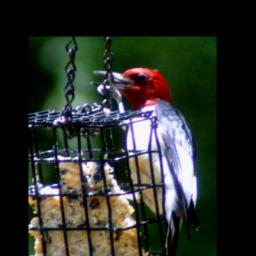Woodpecker: (87, 65, 201, 256)
